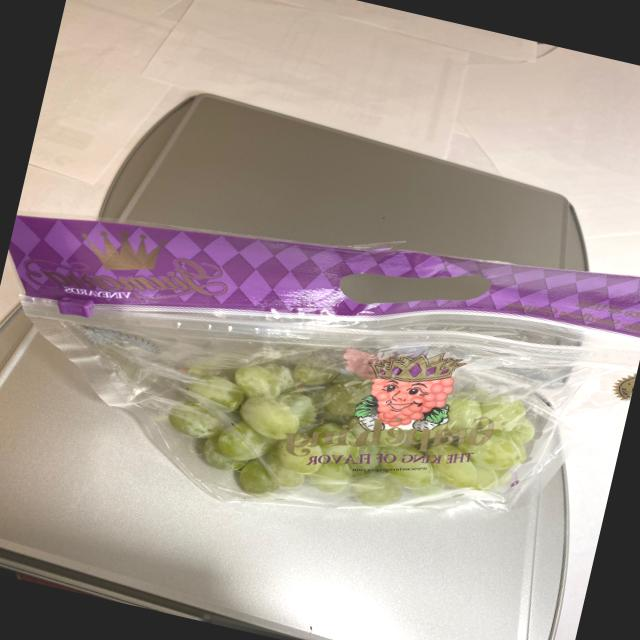grapes: (122, 315, 560, 546)
